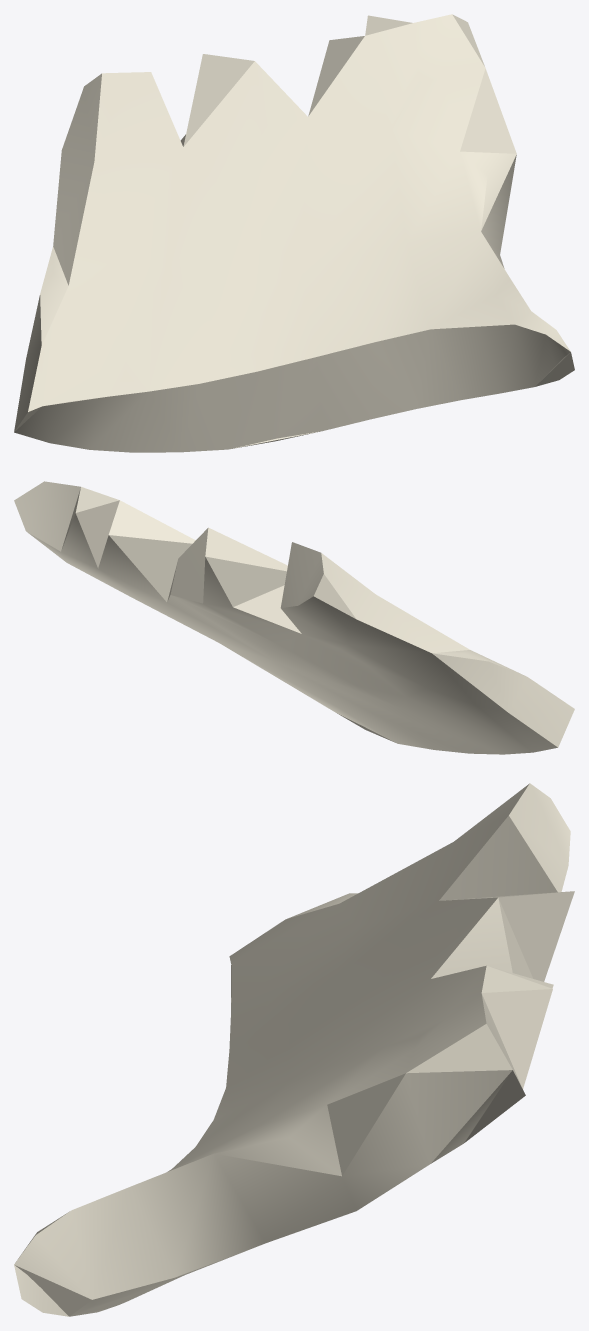
The model's file is fma44258_mm1384m.glb.
The picture shows the model from 3 angles, top to bottom: view 1: azimuth 30°, elevation 25°; view 2: azimuth 150°, elevation 25°; view 3: azimuth 270°, elevation 25°; orthographic projection. The views are drawn at different scales.
Parts seen in each view (by area): view 1: FMA44258_MM1384M; view 2: FMA44258_MM1384M; view 3: FMA44258_MM1384M.
Boxes of the visible parts, x1,y1,x2,y2 form: FMA44258_MM1384M: [14, 14, 574, 452]; FMA44258_MM1384M: [14, 481, 574, 754]; FMA44258_MM1384M: [14, 783, 574, 1316].
Bounding box in the file's own units: 0.013 × 0.00692 × 0.00842.
